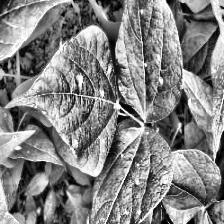Bean Rust: (16, 25, 124, 177), (83, 127, 172, 224), (112, 0, 186, 110), (207, 2, 224, 154)
